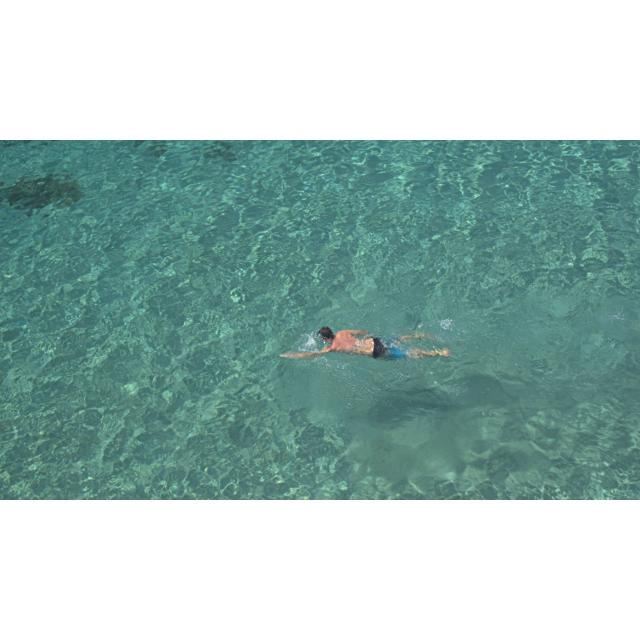human: (279, 326, 453, 367)
